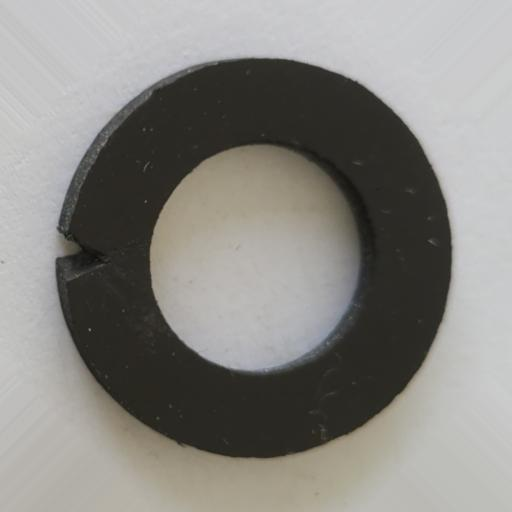defect: (55, 227, 112, 285)
